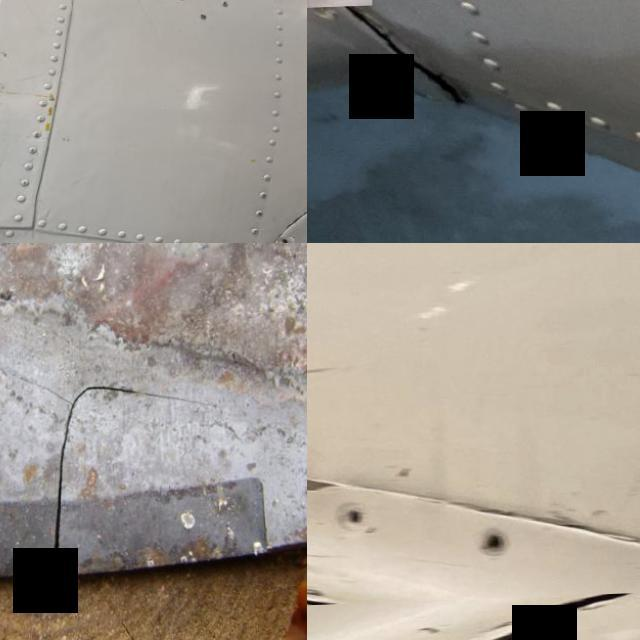Crack: (46, 380, 212, 589), (342, 0, 479, 139), (307, 596, 640, 640)
Missing_Fastener: (471, 530, 516, 558), (336, 505, 370, 531), (307, 0, 332, 22), (276, 240, 293, 243)
